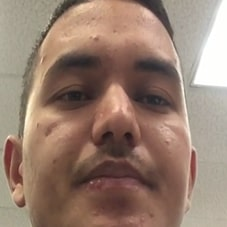drowsy: (40, 43, 180, 227)
